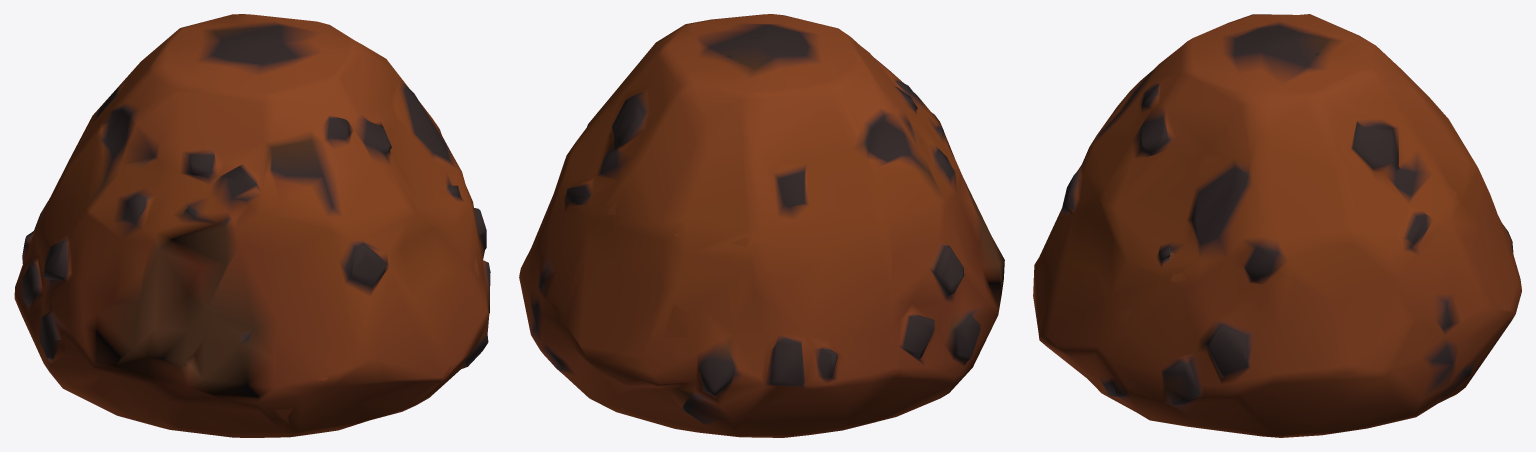
File: gen3d-volcanic-rock-lod0.glb
3 renders of one model, left to right at view 1: azimuth 30°, elevation 25°; view 2: azimuth 150°, elevation 25°; view 3: azimuth 270°, elevation 25°, orthographic.
Visible parts, largest first — view 1: part_0; view 2: part_0; view 3: part_0.
Part boxes in pixels (x1=…): part_0: x1=14, y1=14, x2=490, y2=437; part_0: x1=519, y1=14, x2=1004, y2=437; part_0: x1=1033, y1=14, x2=1521, y2=437.
Size of the model in its own units: 1.33 by 0.993 by 1.37.
